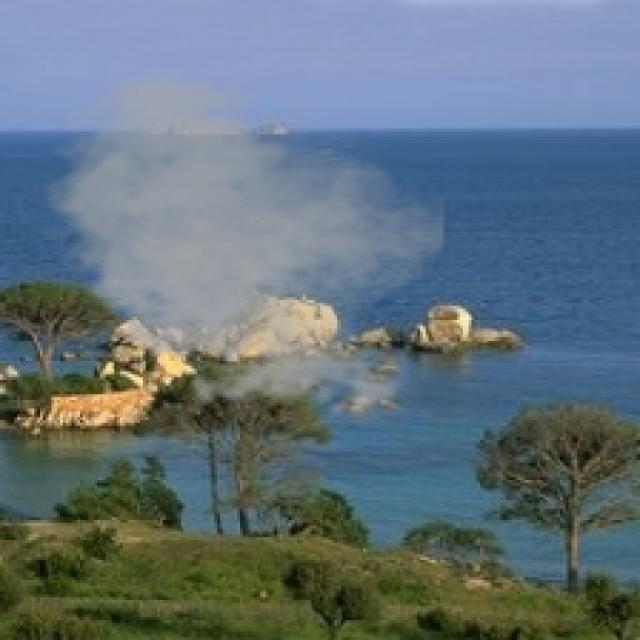smoke: (31, 66, 448, 428)
